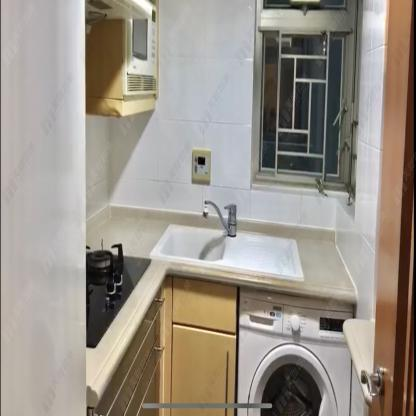Cupboard: (165, 276, 242, 400)
Faucet: (201, 194, 242, 244)
Microwave: (122, 0, 159, 101), (126, 4, 158, 96)
Sink: (142, 218, 308, 288), (154, 221, 302, 281)
Stove: (86, 231, 165, 401), (87, 239, 154, 350)
Washing Machine: (236, 288, 355, 416)
